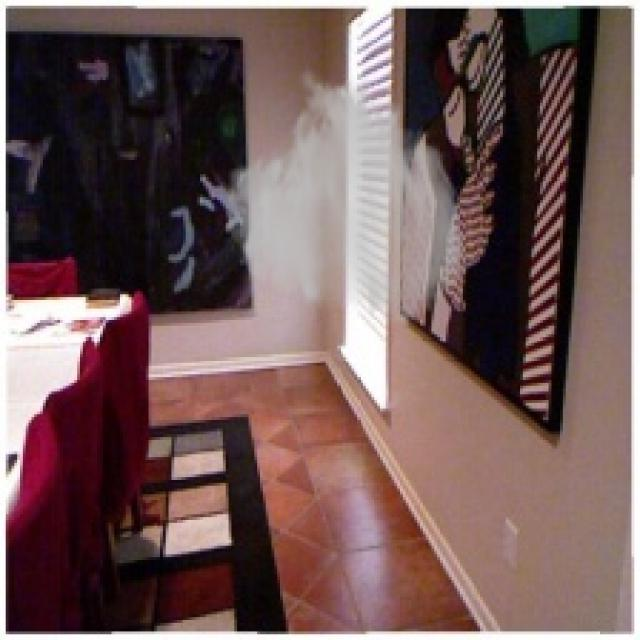smoke: (223, 65, 468, 328)
